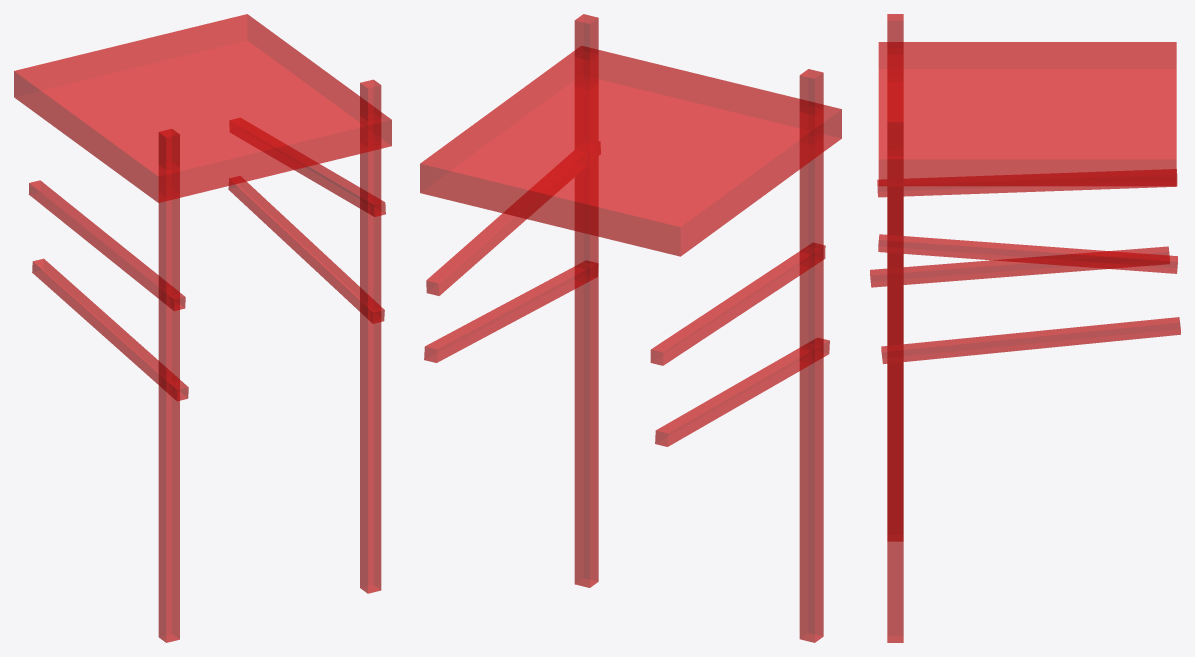
Rendered from SM_Bld_Dock_03_Collision.fbx.
3 views of the same model, side by side, from view 1: azimuth 30°, elevation 25°; view 2: azimuth 150°, elevation 25°; view 3: azimuth 270°, elevation 25° (orthographic). The views are drawn at different scales.
Parts seen in each view (by area): view 1: SM_Bld_Dock_03_Collision; view 2: SM_Bld_Dock_03_Collision; view 3: SM_Bld_Dock_03_Collision.
Boxes of the visible parts, x1,y1,x2,y2 form: SM_Bld_Dock_03_Collision: (14,14,391,642); SM_Bld_Dock_03_Collision: (420,14,841,642); SM_Bld_Dock_03_Collision: (870,14,1180,642).
Bounding box in the file's own units: 367 × 758 × 410.
